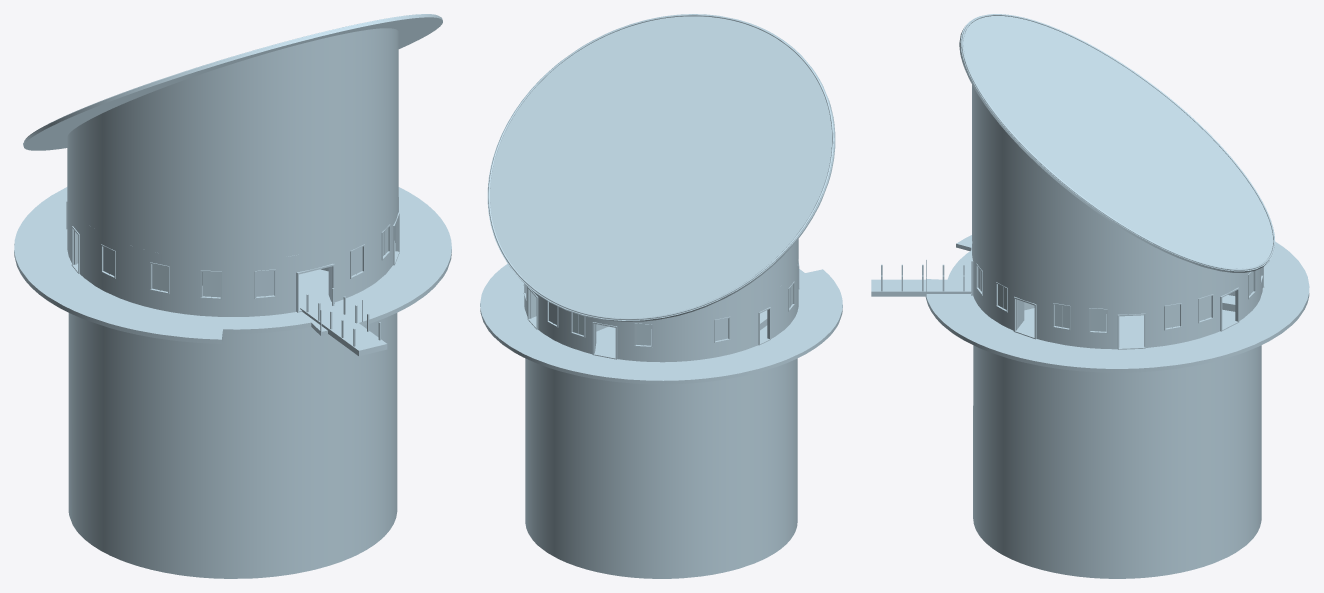
Rendered from tower_crown_1_lod1.glb.
3 views of the same model, side by side, from view 1: azimuth 30°, elevation 25°; view 2: azimuth 150°, elevation 25°; view 3: azimuth 270°, elevation 25° (orthographic). The views are drawn at different scales.
Parts seen in each view (by area): view 1: Pit wall, Roof infill, Slab 0, Facade 0, Solar disc, Bridge deck, Solar rim; view 2: Solar disc, Pit wall, Slab 0, Facade 0, Solar rim, Roof infill; view 3: Pit wall, Solar disc, Roof infill, Slab 0, Facade 0, Solar rim, Bridge deck.
Part boxes in pixels (bbox=[...]): Pit wall: bbox=[68, 313, 397, 578]; Roof infill: bbox=[67, 28, 398, 260]; Slab 0: bbox=[14, 187, 451, 343]; Facade 0: bbox=[67, 193, 398, 316]; Solar disc: bbox=[23, 14, 442, 150]; Bridge deck: bbox=[300, 301, 387, 356]; Solar rim: bbox=[24, 14, 437, 141]; Solar disc: bbox=[487, 14, 835, 321]; Pit wall: bbox=[525, 358, 797, 578]; Slab 0: bbox=[480, 264, 842, 384]; Facade 0: bbox=[524, 260, 798, 362]; Solar rim: bbox=[488, 14, 833, 319]; Roof infill: bbox=[683, 239, 798, 314]; Pit wall: bbox=[973, 345, 1261, 578]; Solar disc: bbox=[959, 14, 1275, 272]; Roof infill: bbox=[972, 85, 1236, 299]; Slab 0: bbox=[925, 235, 1309, 372]; Facade 0: bbox=[972, 243, 1262, 349]; Solar rim: bbox=[961, 14, 1274, 270]; Bridge deck: bbox=[871, 279, 971, 296].
Size of the model in its own units: 19.99 by 27.3 by 22.8.
